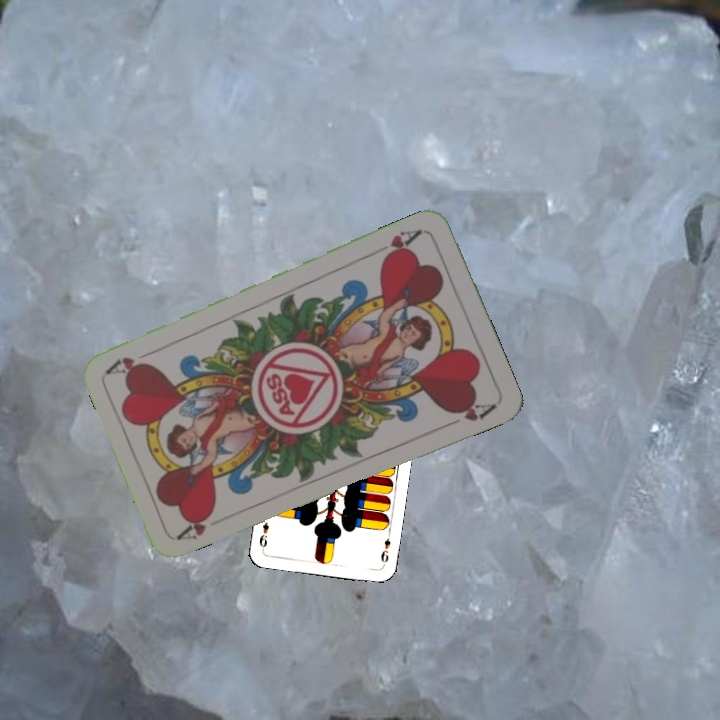E9: (377, 528, 393, 568)
HA: (370, 225, 425, 264), (174, 505, 217, 543)
